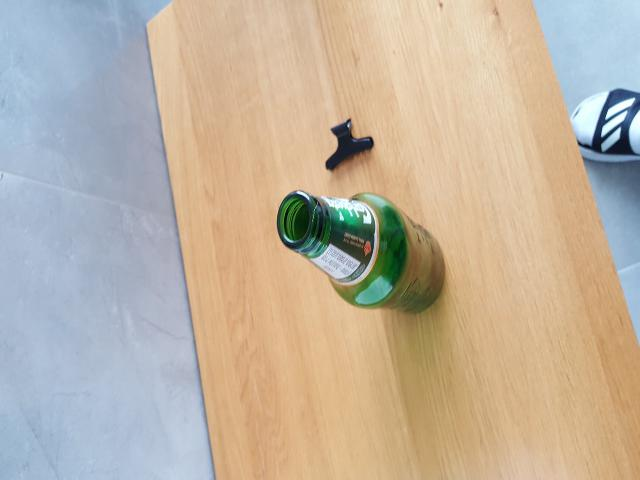beer: (277, 189, 446, 314)
